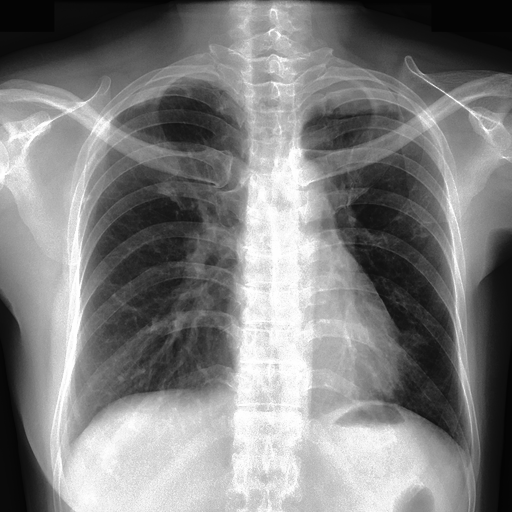Calcification: (292, 72, 423, 116), (129, 76, 219, 104)
Pneumothorax: (394, 208, 430, 239)
